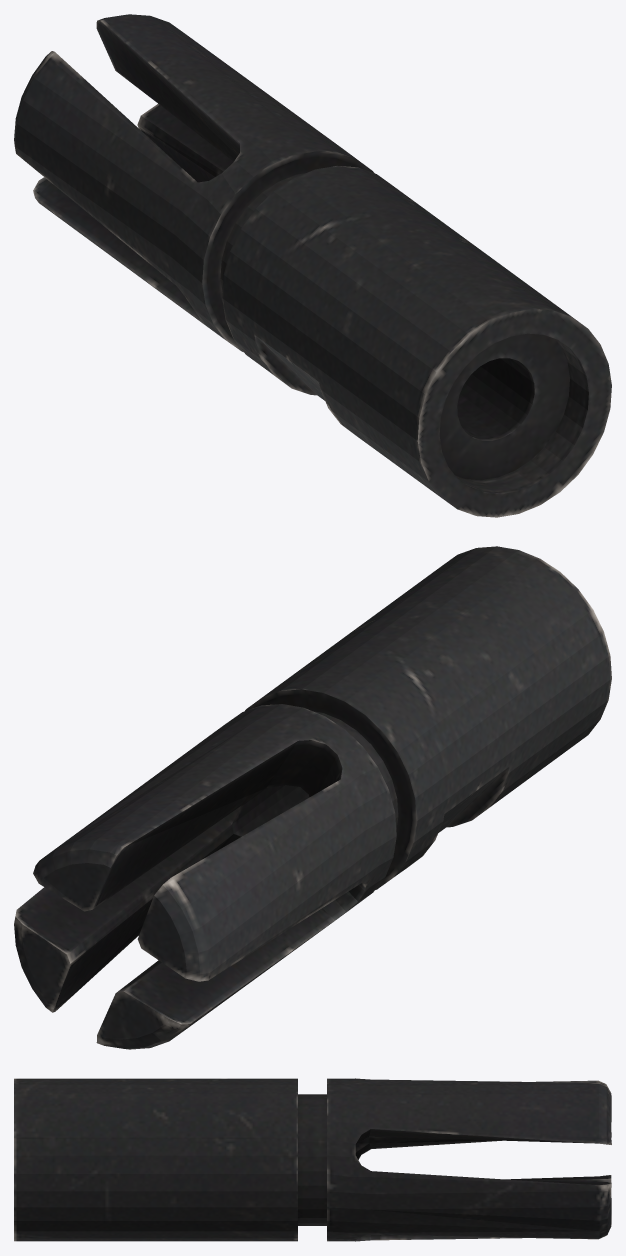
The picture shows the model from 3 angles, top to bottom: view 1: azimuth 30°, elevation 25°; view 2: azimuth 150°, elevation 25°; view 3: azimuth 270°, elevation 25°; orthographic projection. The views are drawn at different scales.
Visible parts, largest first — view 1: TW_5addbba15acfc400185c2854_PZ_Import; view 2: TW_5addbba15acfc400185c2854_PZ_Import; view 3: TW_5addbba15acfc400185c2854_PZ_Import.
Boxes of the visible parts, left/top/right/bottom form: TW_5addbba15acfc400185c2854_PZ_Import: left=14, top=14, right=611, bottom=517; TW_5addbba15acfc400185c2854_PZ_Import: left=14, top=546, right=611, bottom=1049; TW_5addbba15acfc400185c2854_PZ_Import: left=14, top=1078, right=611, bottom=1241.
Size of the model in its own units: 0.0121 by 0.0442 by 0.0121.
Materials: 1 (1 with a texture image).
